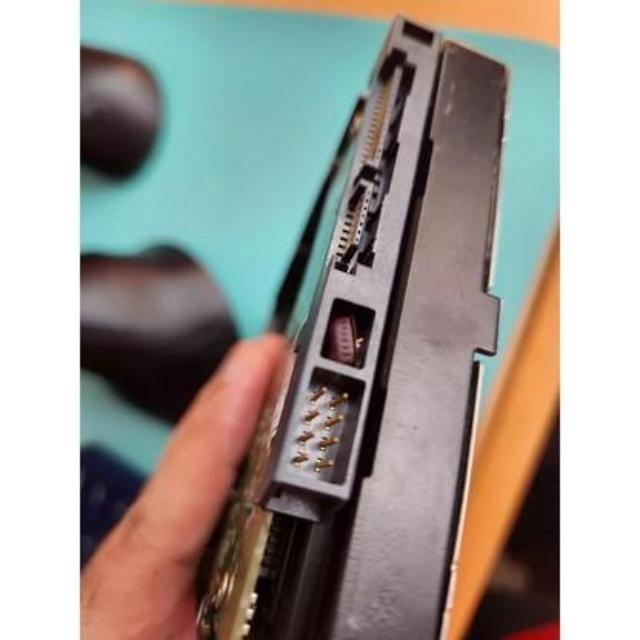DISK: (205, 11, 478, 640)
